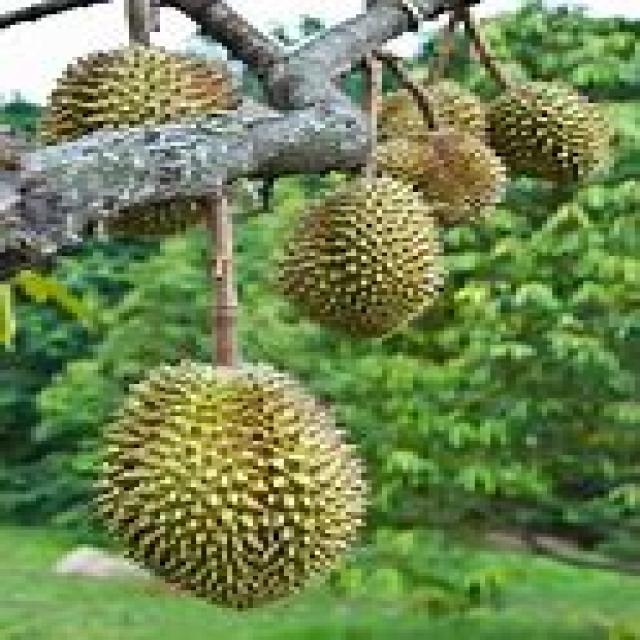mature: (98, 362, 363, 607), (278, 178, 443, 336)
